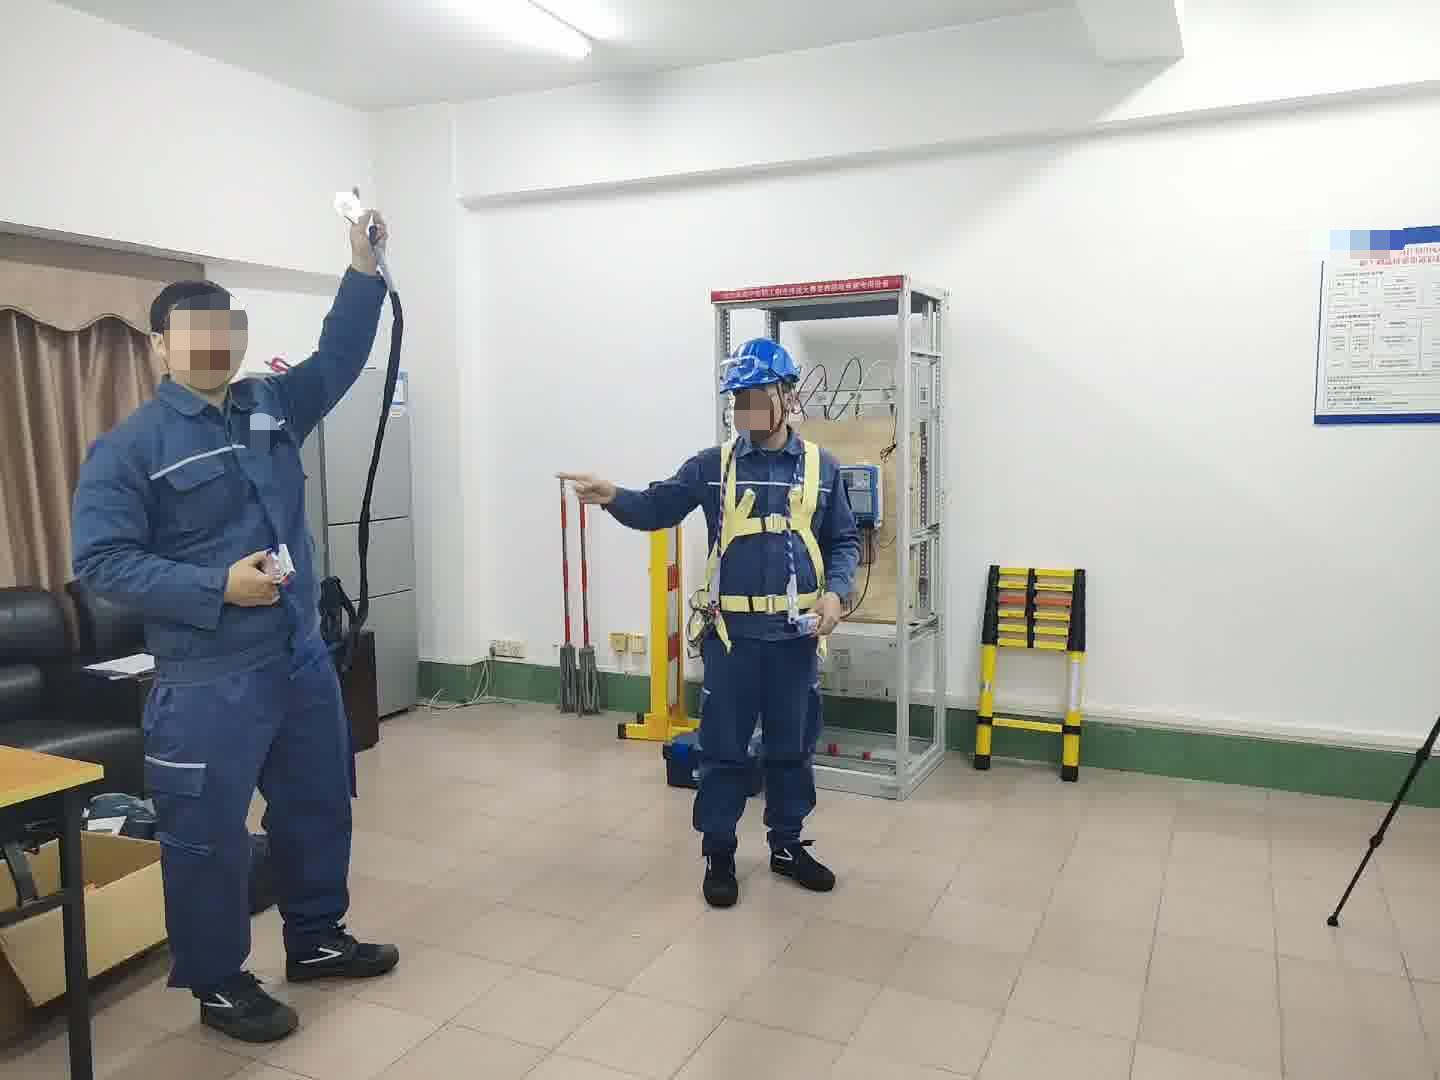halt: (718, 338, 803, 444)
inear: (773, 386, 802, 429)
noear: (150, 329, 171, 370)
unhalt: (151, 280, 253, 398)
